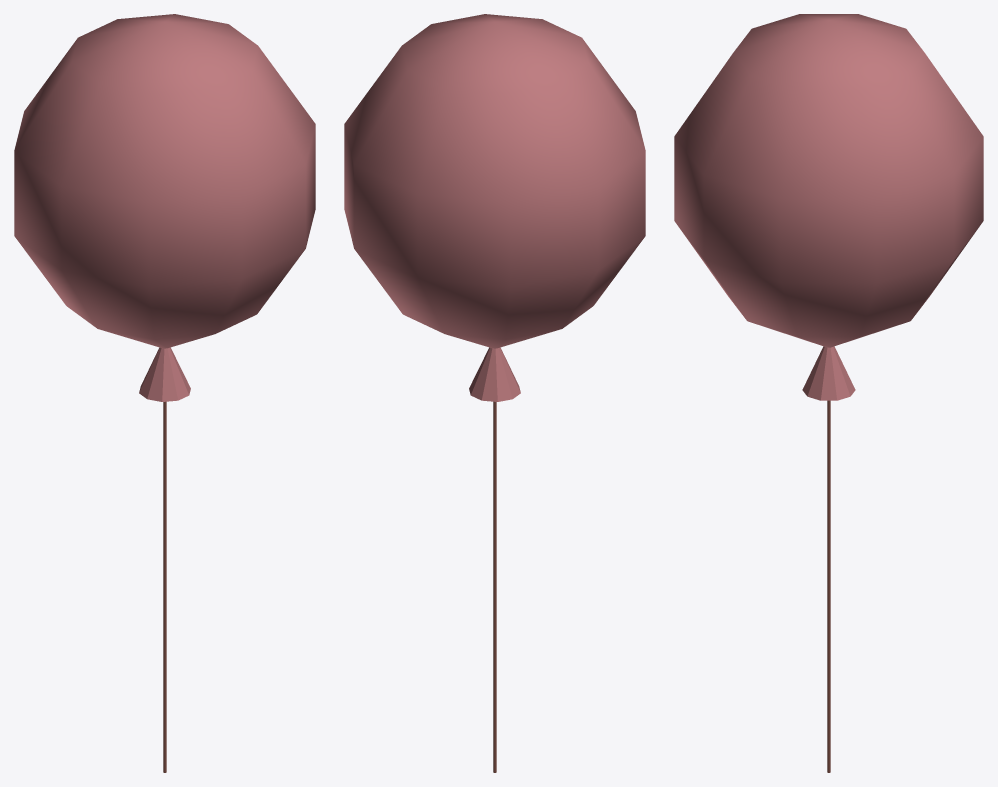
File: Baloon.FBX
3 renders of one model, left to right at view 1: azimuth 30°, elevation 25°; view 2: azimuth 150°, elevation 25°; view 3: azimuth 270°, elevation 25°, orthographic.
Visible parts, largest first — view 1: Sphere001; view 2: Sphere001; view 3: Sphere001.
Part boxes in pixels (x1,y1,x2,y2): Sphere001: (14, 14, 315, 772); Sphere001: (344, 14, 645, 772); Sphere001: (674, 14, 983, 772).
Bounding box in the file's own units: 76.75 × 217 × 80.7.
